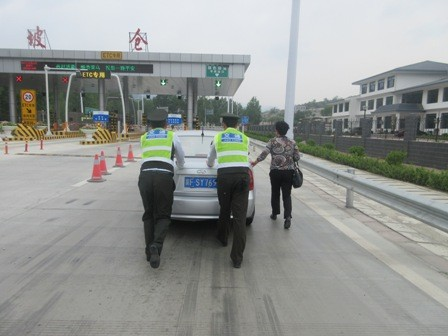other: (203, 112, 254, 271), (136, 107, 184, 268), (252, 120, 302, 232)
